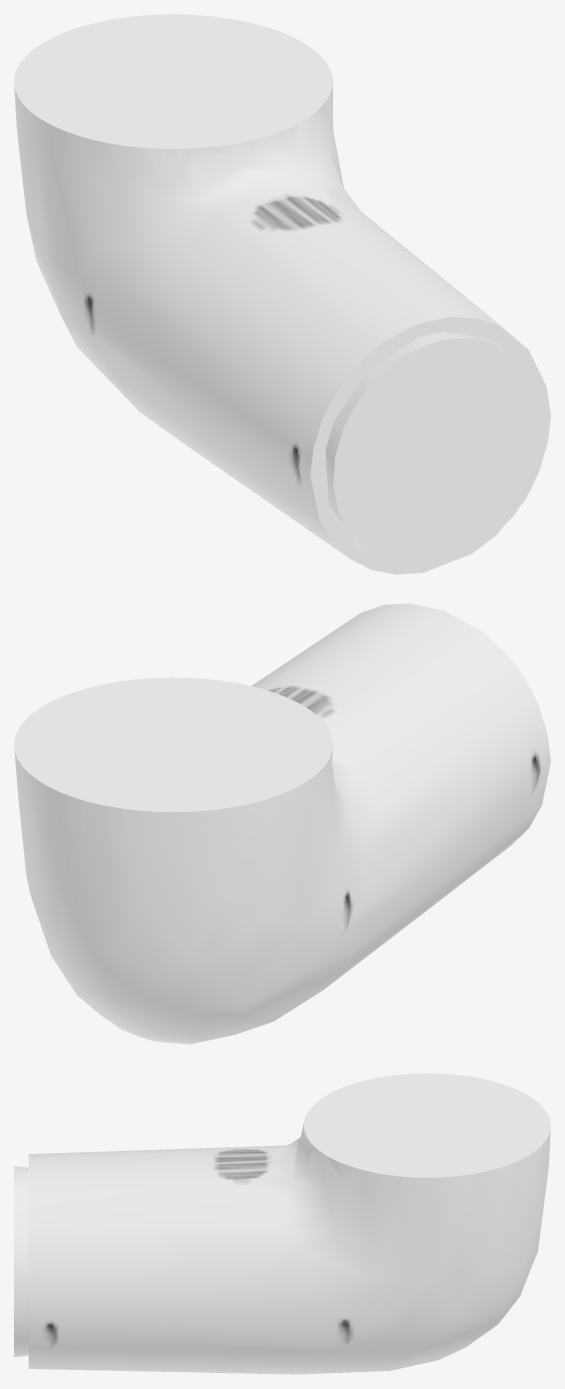
File: link_shoulder.3obj.obj.glb
3 views of the same model, one above another, from view 1: azimuth 30°, elevation 25°; view 2: azimuth 150°, elevation 25°; view 3: azimuth 270°, elevation 25° (orthographic). The views are drawn at different scales.
Parts seen in each view (by area): view 1: link_shoulder.3obj.obj; view 2: link_shoulder.3obj.obj; view 3: link_shoulder.3obj.obj.
Boxes of the visible parts, x1,y1,x2,y2 form: link_shoulder.3obj.obj: (14,14,550,574); link_shoulder.3obj.obj: (14,603,550,1044); link_shoulder.3obj.obj: (14,1073,550,1374).
Bounding box in the file's own units: 0.13 × 0.139 × 0.2824.
Materials: 1 (1 with a texture image).
